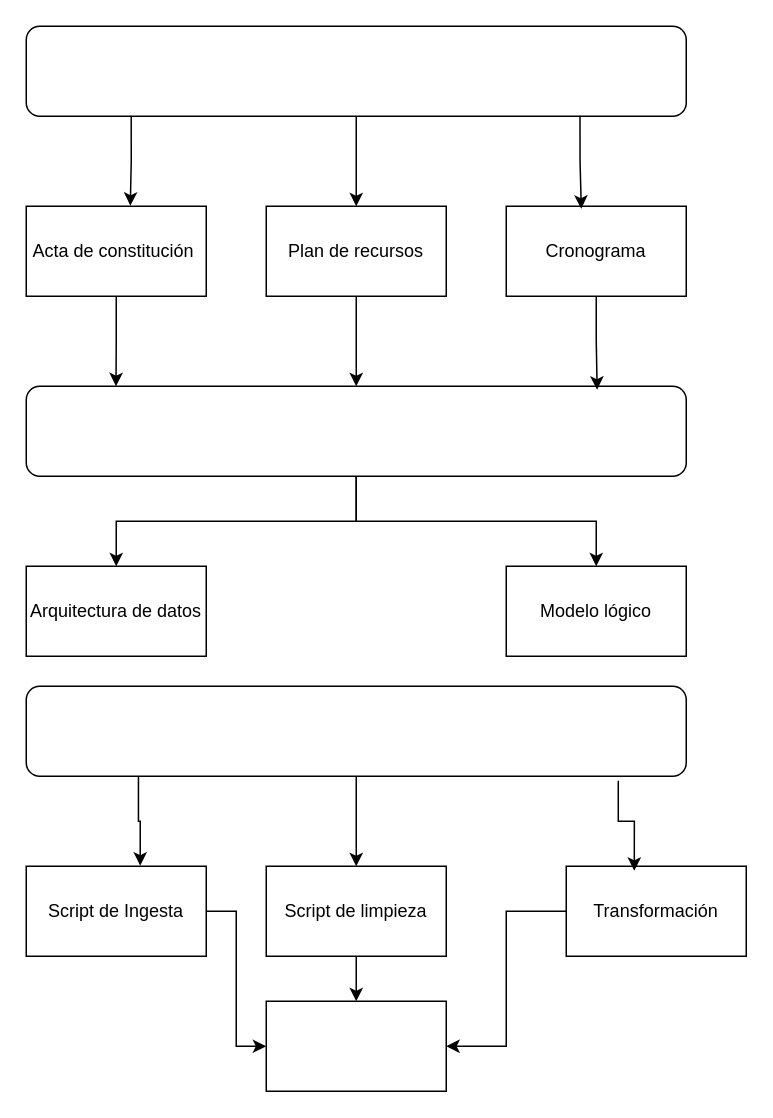
The diagram is 773 pixels wide and 1118 high, and some of its shapes have lost their labels. Each missing label, with the centre of its shape:
Desarrollo Técnico: point (355, 730)
Diseño técnico: point (355, 430)
Entrenamiento del modelo IA: point (355, 1045)
Proyecto sistema Predictivo: point (355, 70)
